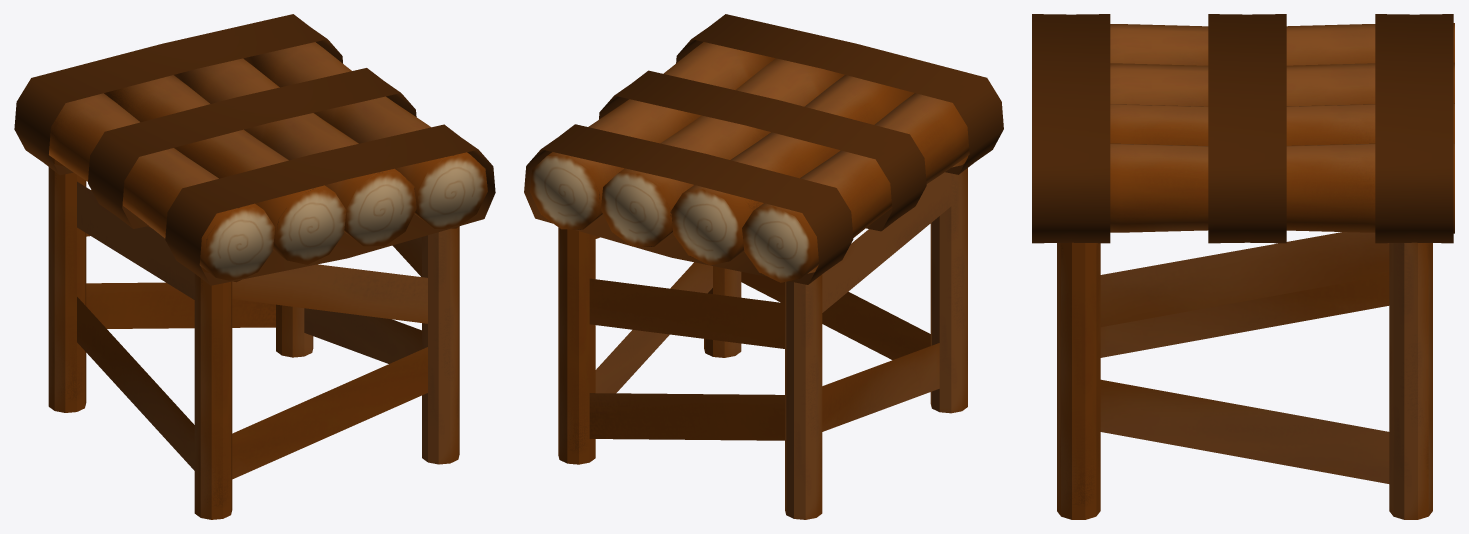
File: Log Platform.obj
3 views of the same model, side by side, from view 1: azimuth 30°, elevation 25°; view 2: azimuth 150°, elevation 25°; view 3: azimuth 270°, elevation 25° (orthographic). The views are drawn at different scales.
Parts seen in each view (by area): view 1: Cylinder_Cylinder.001; view 2: Cylinder_Cylinder.001; view 3: Cylinder_Cylinder.001.
Boxes of the visible parts, x1,y1,x2,y2 form: Cylinder_Cylinder.001: (14,14,495,519); Cylinder_Cylinder.001: (524,14,1003,519); Cylinder_Cylinder.001: (1032,14,1454,519).
Bounding box in the file's own units: 8.72 × 9 × 9.48.
